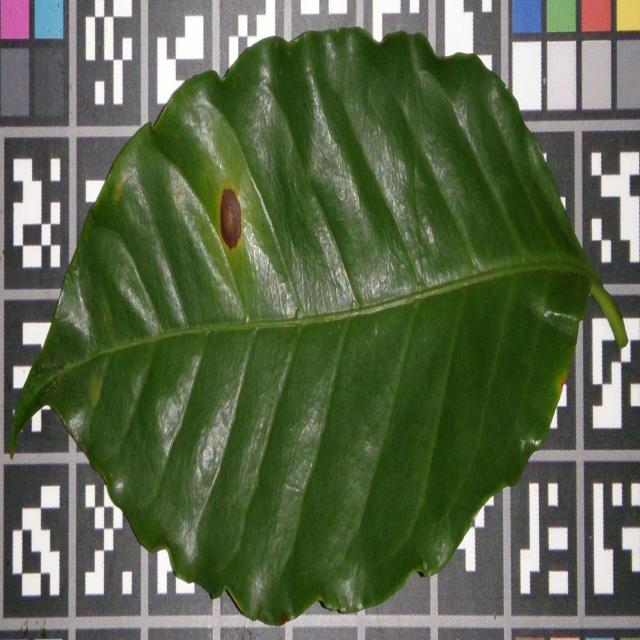Enfermedad-Mancha-de-hierro: (13, 28, 613, 629)
